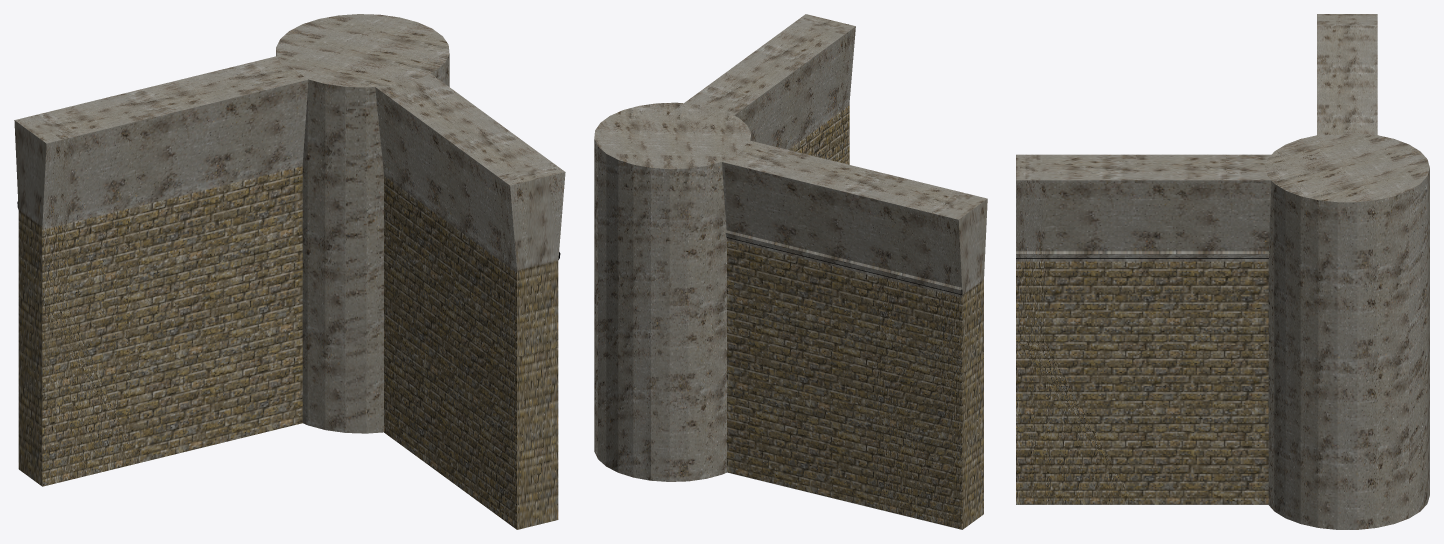
Rendered from basicwall_inner_corner.fbx.
3 views of the same model, side by side, from view 1: azimuth 30°, elevation 25°; view 2: azimuth 150°, elevation 25°; view 3: azimuth 270°, elevation 25° (orthographic). The views are drawn at different scales.
Parts seen in each view (by area): view 1: Cylinder.001; view 2: Cylinder.001; view 3: Cylinder.001.
Part boxes in pixels (x1,y1,x2,y2): Cylinder.001: (14, 14, 565, 529); Cylinder.001: (594, 14, 987, 529); Cylinder.001: (1016, 14, 1429, 529).
Size of the model in its own units: 492 by 400 by 458.
Materials: 1 (1 with a texture image).
